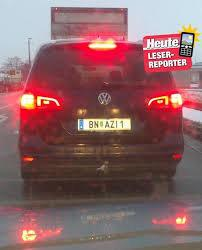license-plates: (78, 119, 131, 132)
